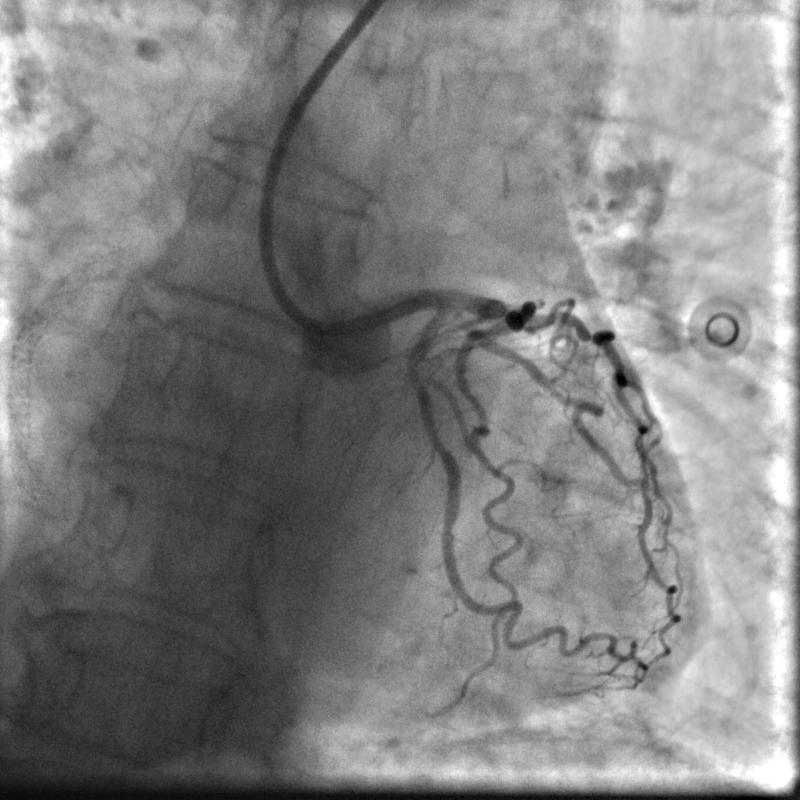Stenosis: (406, 357, 427, 390)
